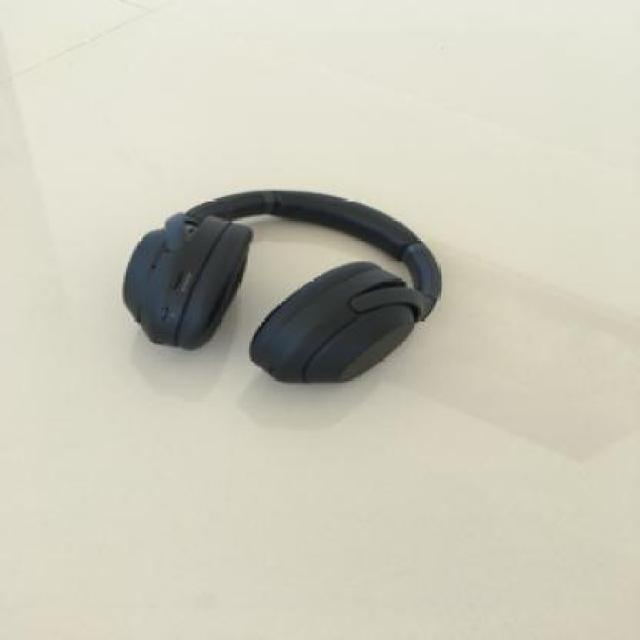earphone: (118, 90, 517, 413)
